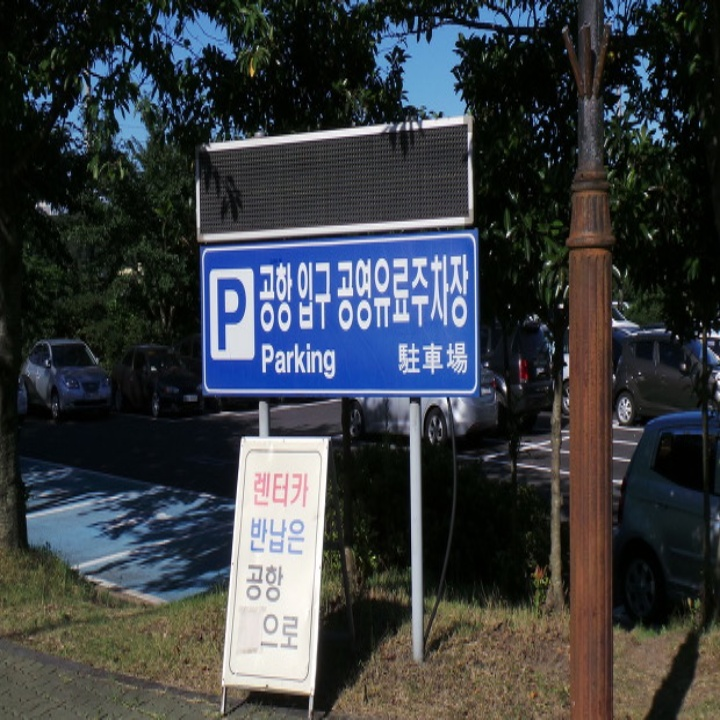parking: (213, 267, 249, 359)
